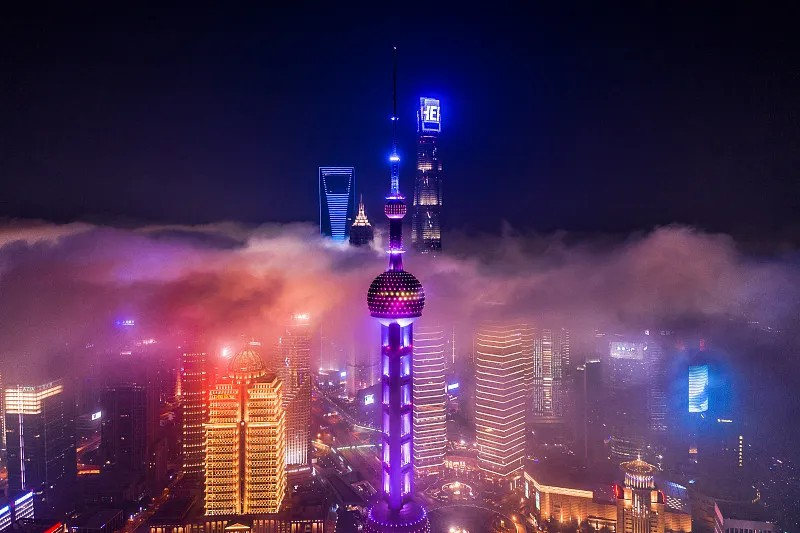Oriental: (364, 44, 430, 533)
